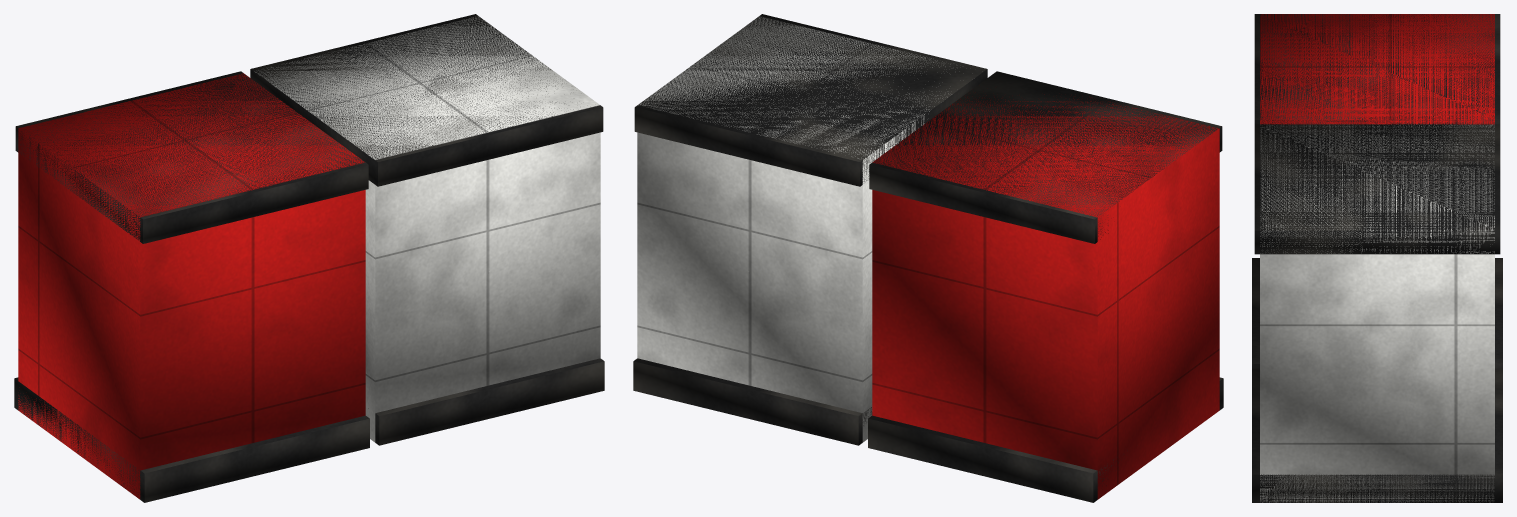
File: tecpro_2m.glb
3 views of the same model, side by side, from view 1: azimuth 30°, elevation 25°; view 2: azimuth 150°, elevation 25°; view 3: azimuth 270°, elevation 25° (orthographic). The views are drawn at different scales.
Parts seen in each view (by area): view 1: tecpro_2m; view 2: tecpro_2m; view 3: tecpro_2m.
Part boxes in pixels (bbox=[...]): tecpro_2m: bbox=[14, 14, 604, 502]; tecpro_2m: bbox=[633, 14, 1223, 502]; tecpro_2m: bbox=[1252, 14, 1502, 502].
Size of the model in its own units: 1.96 by 1.15 by 0.96.
3 materials, 3 textured.
